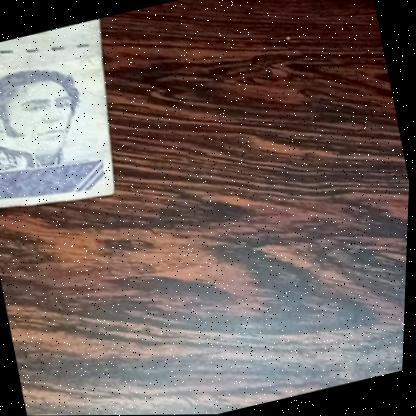ten-front-vef: (0, 17, 147, 222)
